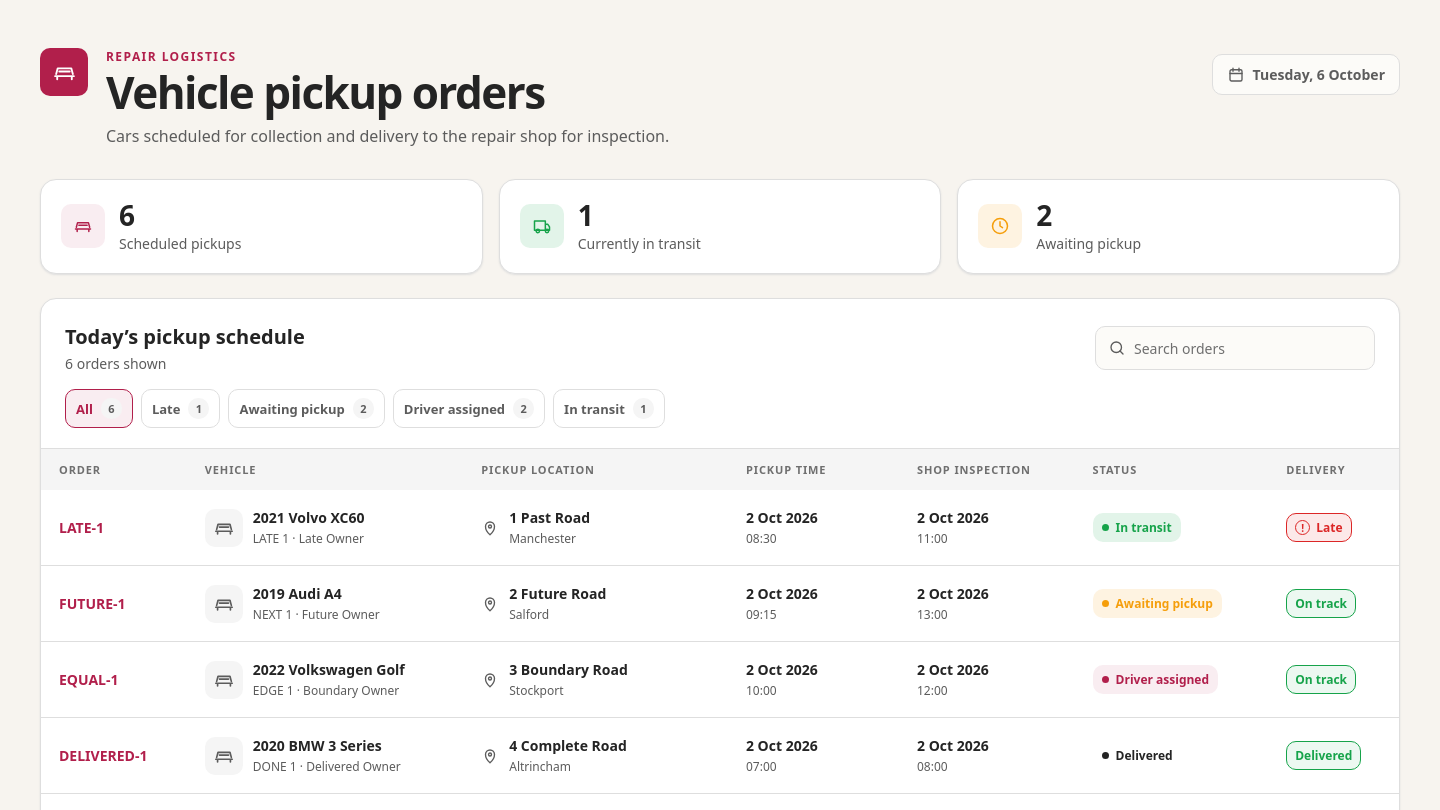
Test: Late delivery filter › preserves operational status filters
Click the button "Awaiting pickup 2": [307, 409] box [228,389,385,428]
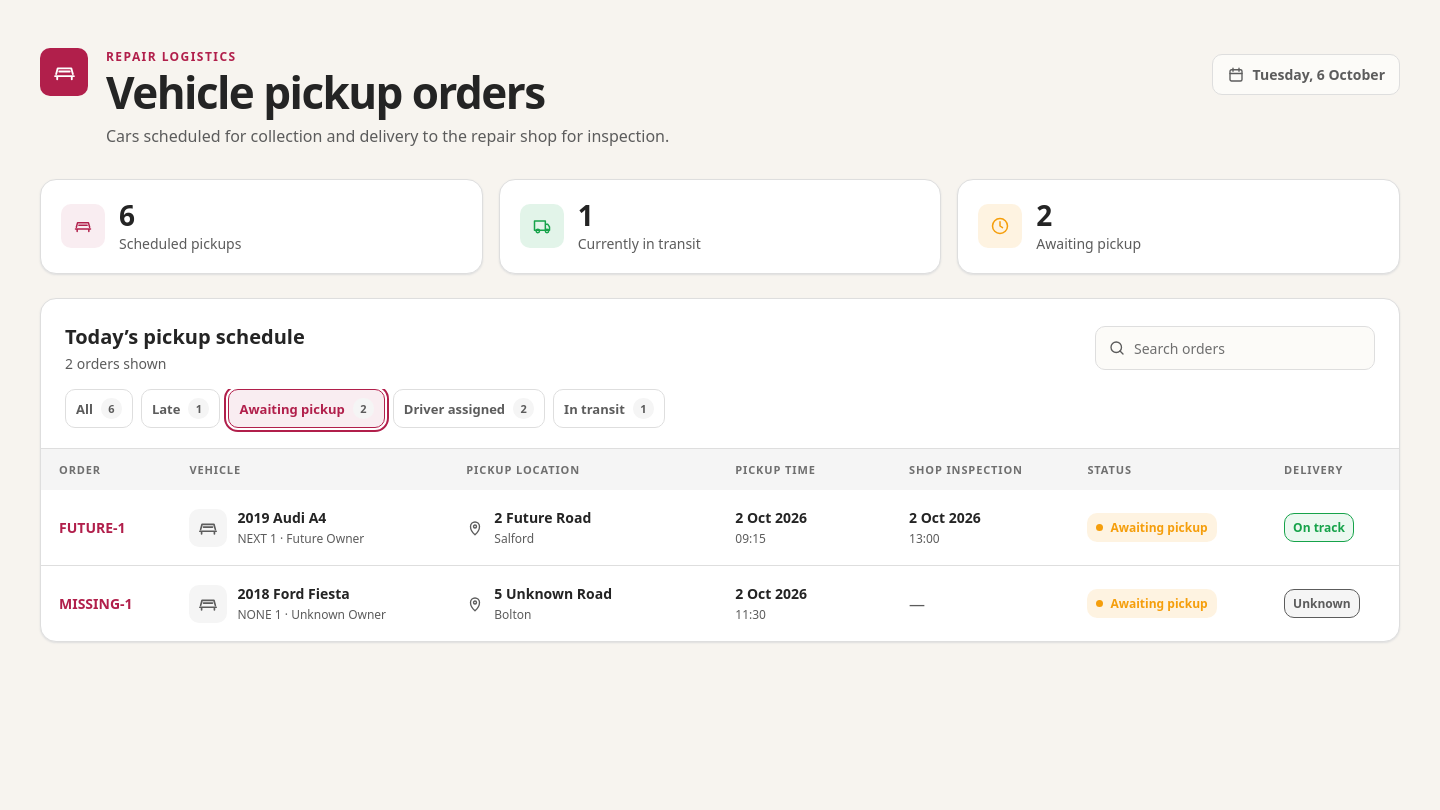
Expected: the text "FUTURE-1" is shown, [59,518,126,537]
Result: the text "LATE-1" is gone
